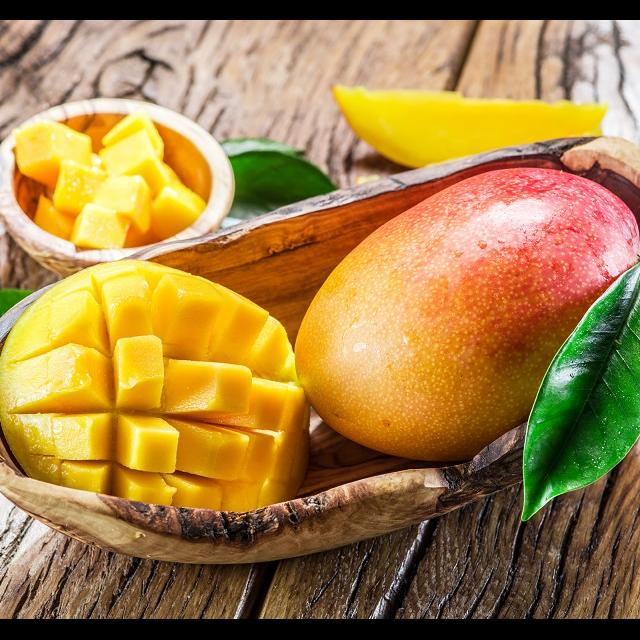mango: (292, 164, 640, 521), (0, 261, 314, 513), (0, 104, 212, 253), (336, 85, 604, 175)
